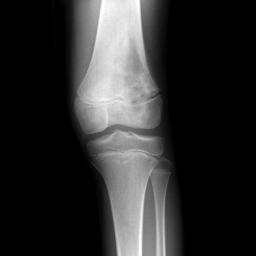cancer: (123, 35, 162, 96)
